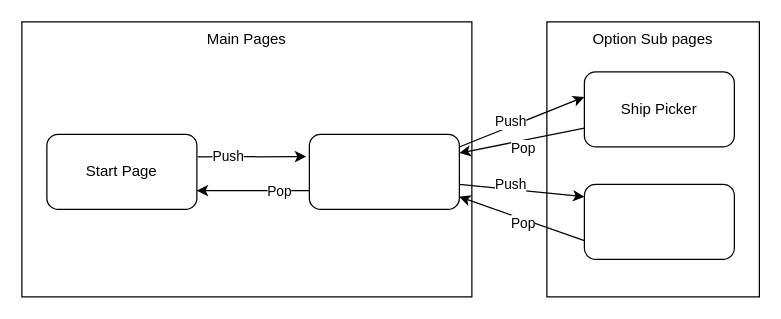
Some shapes in this 781 by 319 pixel diagram are drawn without their labels. The centre of each missing label's shape, as x and y in pixels:
Avatar Editor: [658,221]
Options: [383,171]
